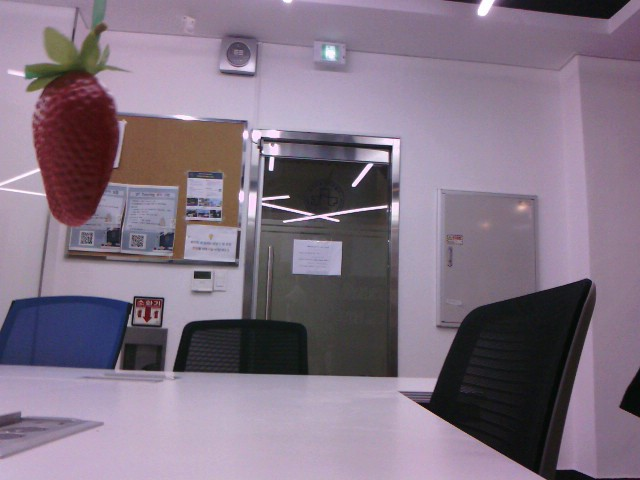strawberry: (26, 62, 126, 230)
